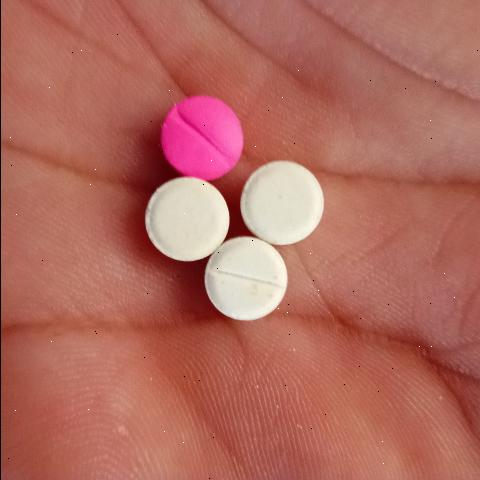Pill: (238, 146, 354, 257), (197, 234, 305, 330), (135, 180, 233, 274)
